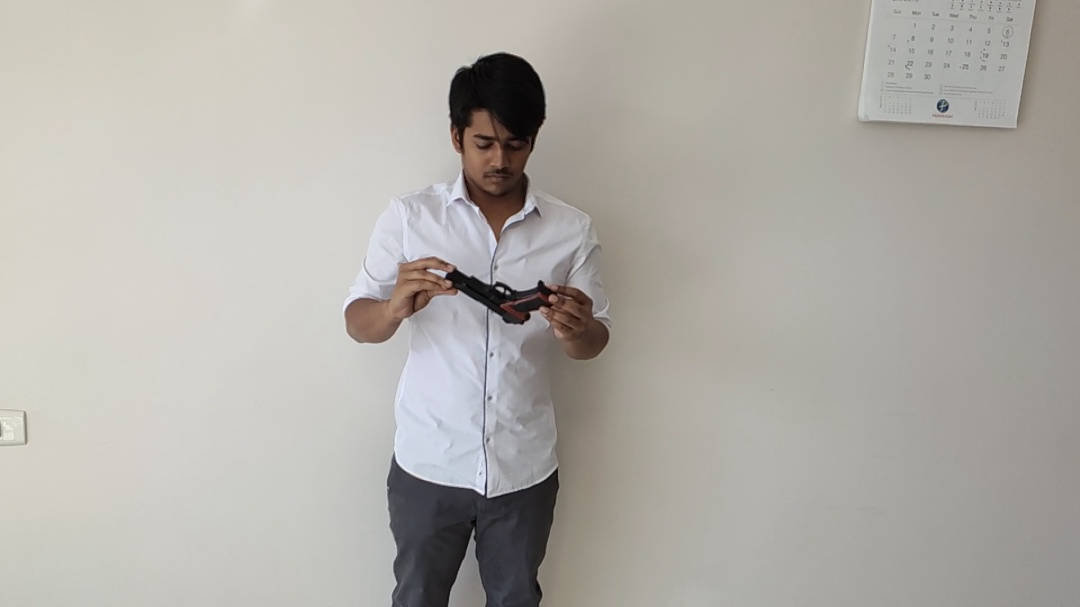gun: (447, 271, 552, 326)
